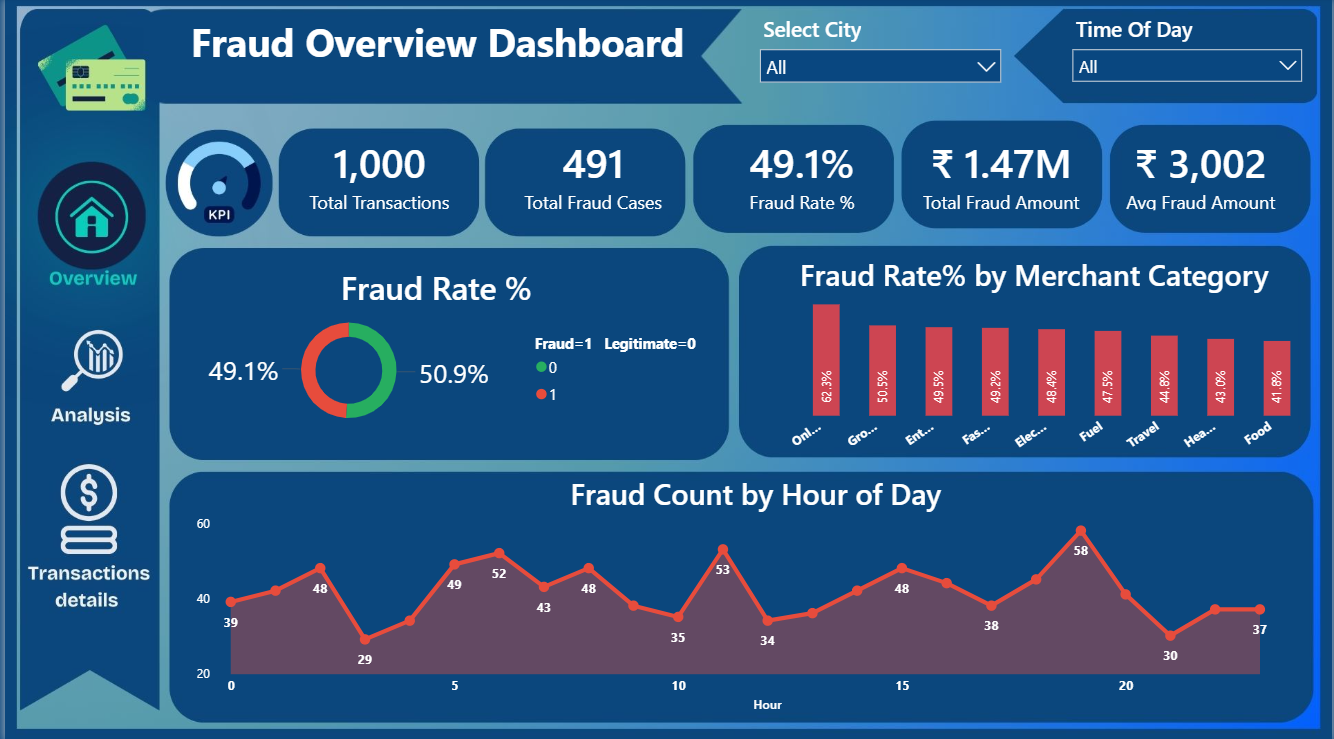

The page's visual inventory and layout, read from the dashboard file:
{"tool":"powerbi","page":{"name":" Overview","canvas":[1280,720],"ordinal":0},"visuals":[{"type":"textbox","title":"Fraud Overview Dashboard","box":[154,18,526,78],"z":0},{"type":"card","fields":{"Values":["transactions.Total Fraud Cases"]},"box":[477.5,120,180,102.5],"z":1000},{"type":"card","fields":{"Values":["transactions.Fraud Rate %"]},"box":[680,120,177.5,102.5],"z":2000},{"type":"card","fields":{"Values":["transactions.-- Total Fraud AmountTotal Fraud Amount"]},"box":[857.5,120,207.5,102.5],"z":3000},{"type":"card","fields":{"Values":["transactions.Avg Fraud Amount"]},"box":[1065,120,177.5,102.5],"z":4000},{"type":"donutChart","title":"Fraud Rate %","fields":{"Category":["transactions.fraud"],"Y":["CountNonNull(transactions.transaction_id)"]},"box":[136.2,245,560,190],"z":5000},{"type":"card","fields":{"Values":["transactions.Total Transactions"]},"box":[272.5,120,177.5,102.5],"z":6000},{"type":"clusteredColumnChart","title":"Fraud Rate% by Merchant Category","fields":{"Category":["transactions.merchant_category"],"Y":["transactions.Fraud Rate %"]},"box":[707,233.7,572.8,225.1],"z":7000},{"type":"lineChart","title":"Fraud Count by Hour of Day ","fields":{"Category":["transactions.Hour"],"Y":["CountNonNull(transactions.fraud)"]},"box":[168.6,445.7,1111.4,261.4],"z":8000},{"type":"actionButton","box":[42.2,312.5,83.2,71.2],"z":9000},{"type":"slicer","fields":{"Values":["transactions.city"]},"box":[724.3,17.1,242.9,80],"z":10000},{"type":"slicer","fields":{"Values":["transactions.Time_Of_Day"]},"box":[1025.7,17.1,231.4,77.1],"z":11000},{"type":"actionButton","box":[54.3,445.2,54.3,92.9],"z":11001}]}

Visuals, with their boxes in screenshot pixels (x1, y1, x2, y2), scaled from the page's 1280x720 canvas onto the 1334x739 screenshot:
"Fraud Overview Dashboard" textbox: [160,18,709,99]
card - transactions.Total Fraud Cases: [498,123,685,228]
card - transactions.Fraud Rate %: [709,123,894,228]
card - transactions.-- Total Fraud AmountTotal Fraud Amount: [894,123,1110,228]
card - transactions.Avg Fraud Amount: [1110,123,1295,228]
"Fraud Rate %" donutChart: [142,251,726,446]
card - transactions.Total Transactions: [284,123,469,228]
"Fraud Rate% by Merchant Category" clusteredColumnChart: [737,240,1333,471]
"Fraud Count by Hour of Day " lineChart: [176,457,1333,726]
actionButton: [44,321,131,394]
slicer - transactions.city: [755,18,1008,100]
slicer - transactions.Time_Of_Day: [1069,18,1310,97]
actionButton: [57,457,113,552]
